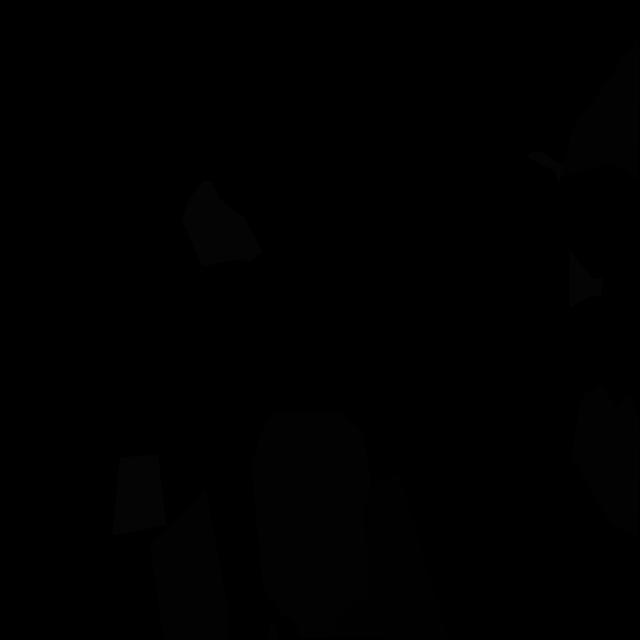cardboard: (251, 411, 372, 638), (150, 489, 229, 640), (560, 35, 640, 180), (571, 384, 640, 538), (266, 619, 278, 640)
rigid_plastic: (330, 473, 448, 639)
soft_plastic: (182, 180, 263, 266), (112, 454, 166, 535), (569, 250, 602, 308), (527, 150, 561, 185)
